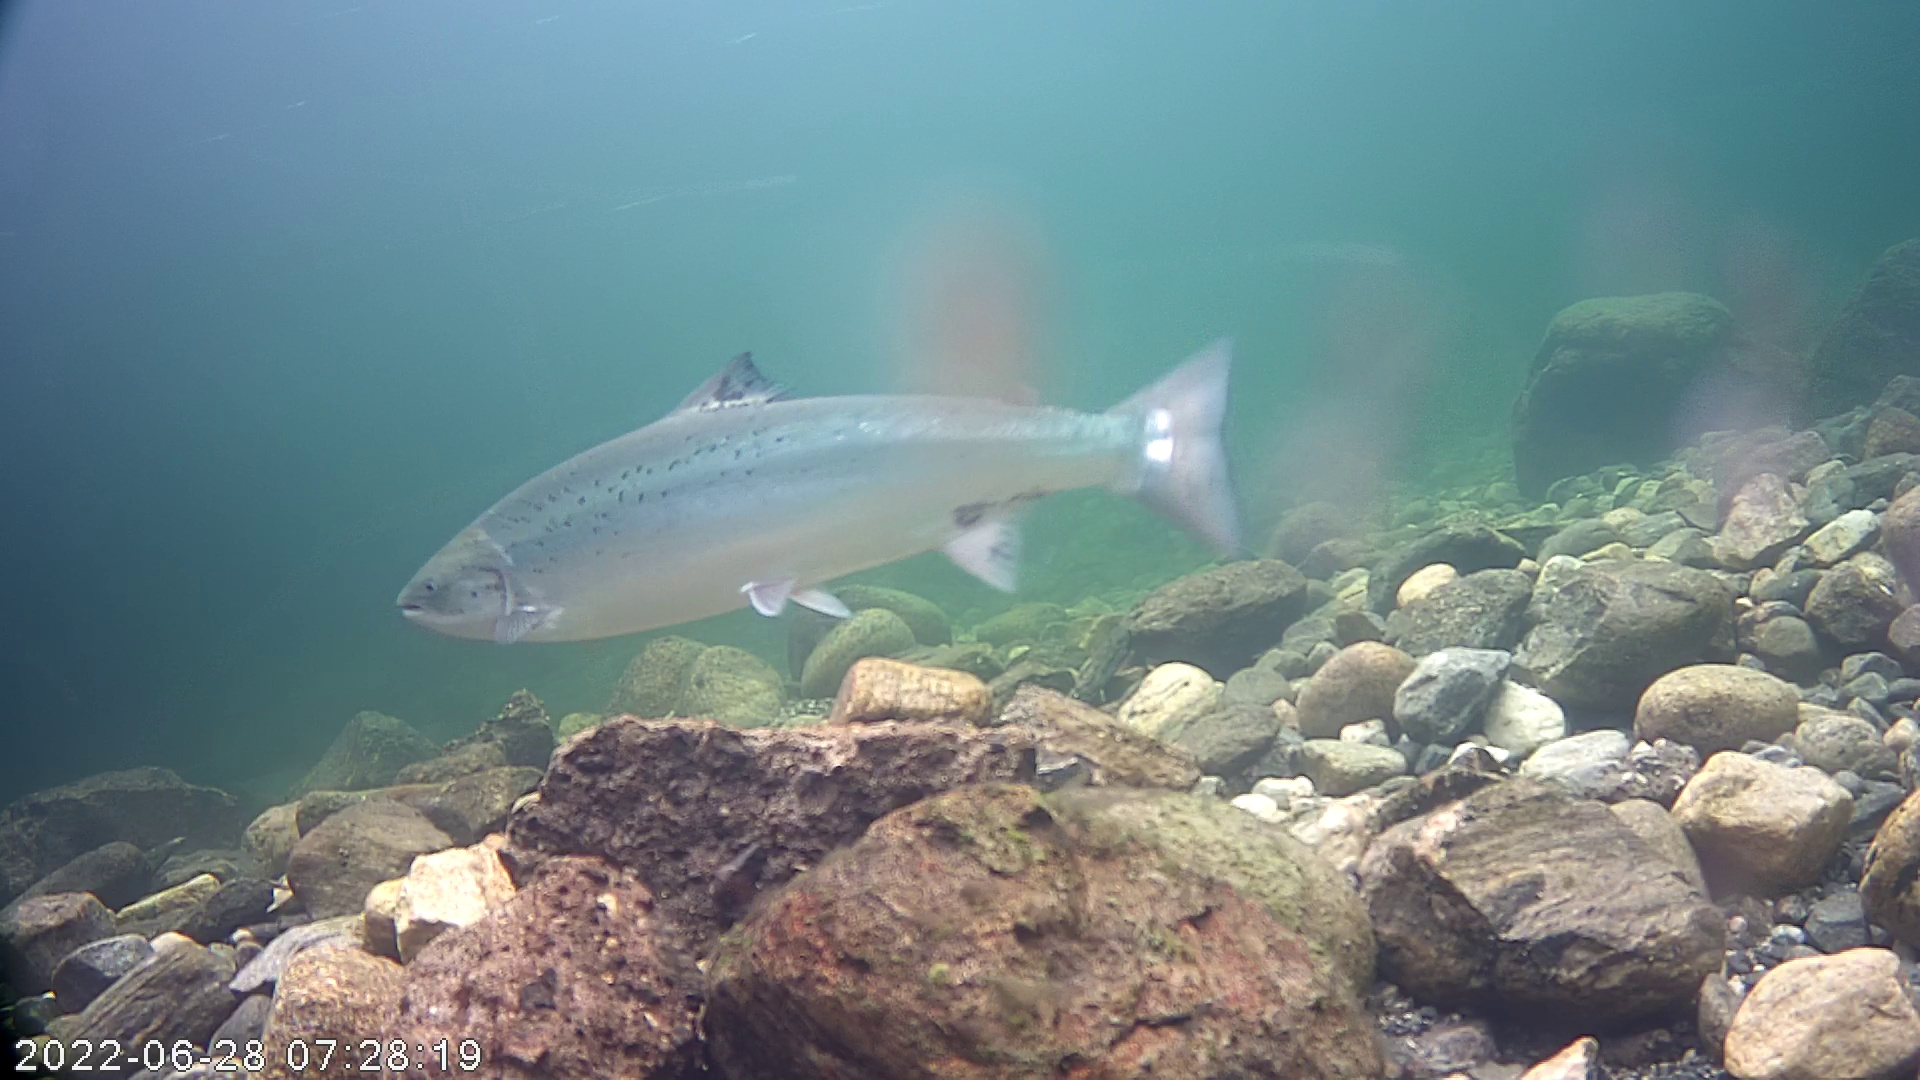salmon: (392, 228, 1276, 683)
